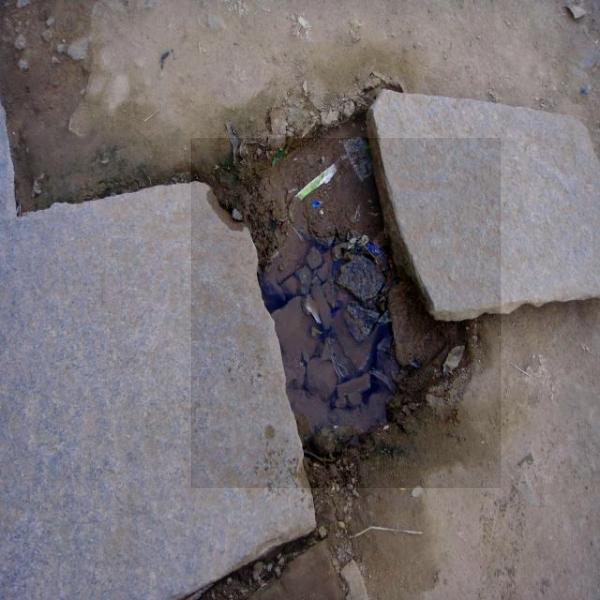water: (191, 138, 501, 488)
